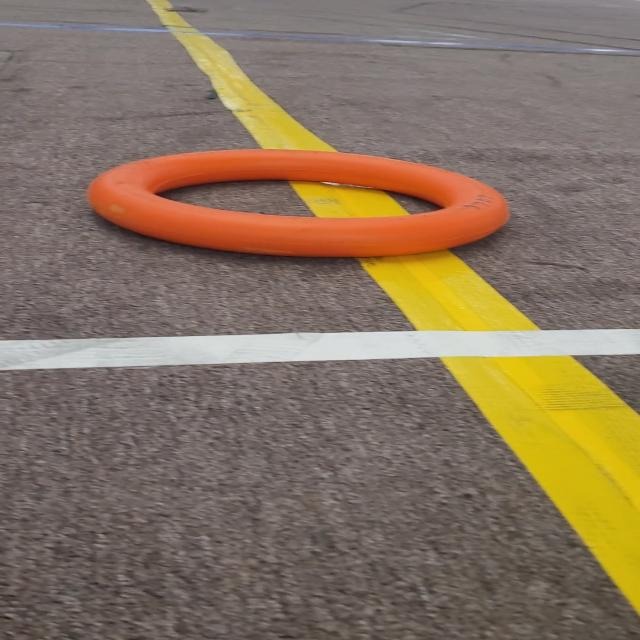note: (81, 143, 563, 281)
